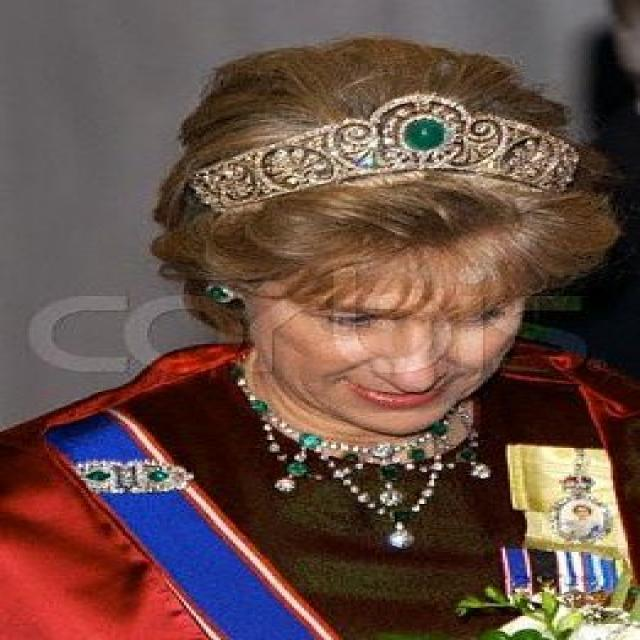Earring: (194, 266, 246, 310)
